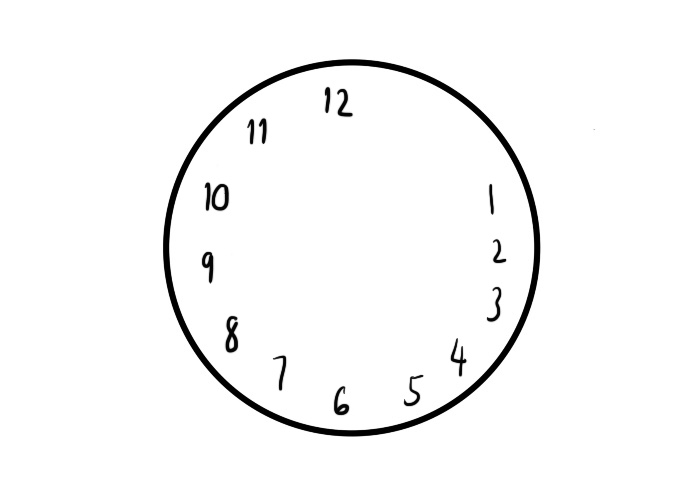eight: (222, 312, 241, 354)
eleven: (244, 115, 267, 145)
five: (400, 372, 425, 406)
four: (445, 332, 469, 377)
nine: (197, 247, 216, 283)
one: (482, 180, 499, 219)
seven: (272, 353, 289, 393)
six: (333, 381, 351, 419)
ten: (201, 177, 230, 215)
three: (486, 285, 503, 323)
twelve: (320, 81, 354, 120)
two: (489, 236, 511, 265)
